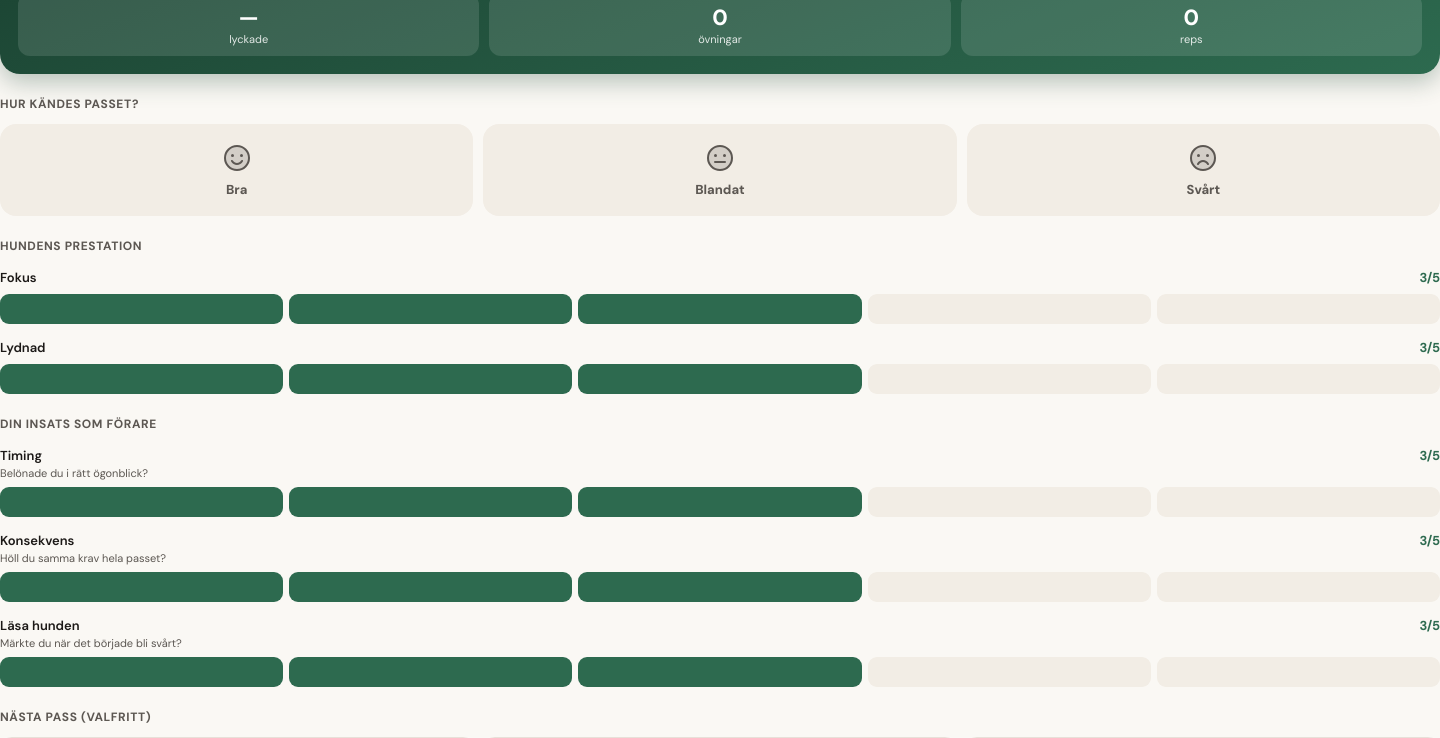
Test: SessionLogForm save status › shows an error and no saved screen when the server responds with an error
The width and height of the screenshot is (1440, 738).
Click the radio button labelled "Bra".
click(237, 170)  # box [0,124,473,216]
(page scrolled)
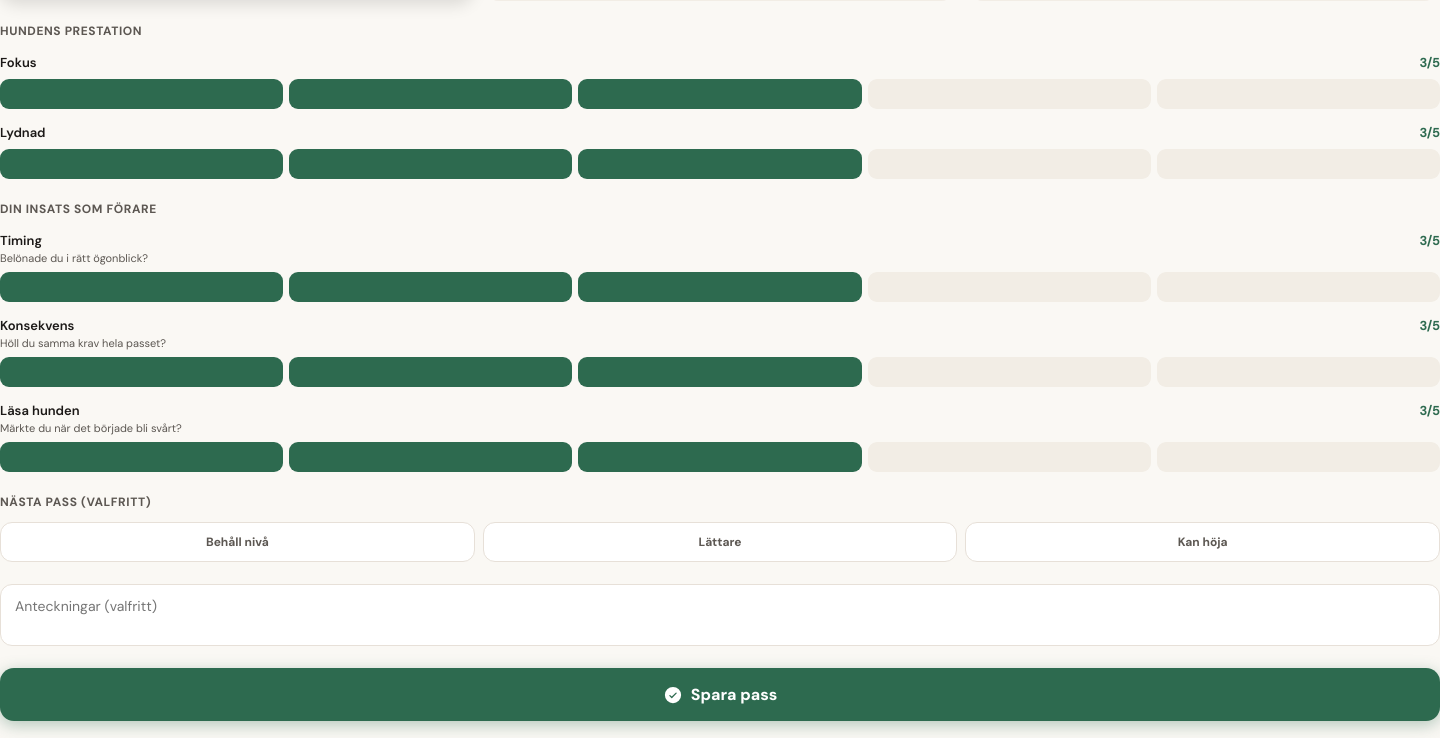
Click the button "Spara pass".
click(720, 694)  # box [0,668,1439,721]
(page scrolled)
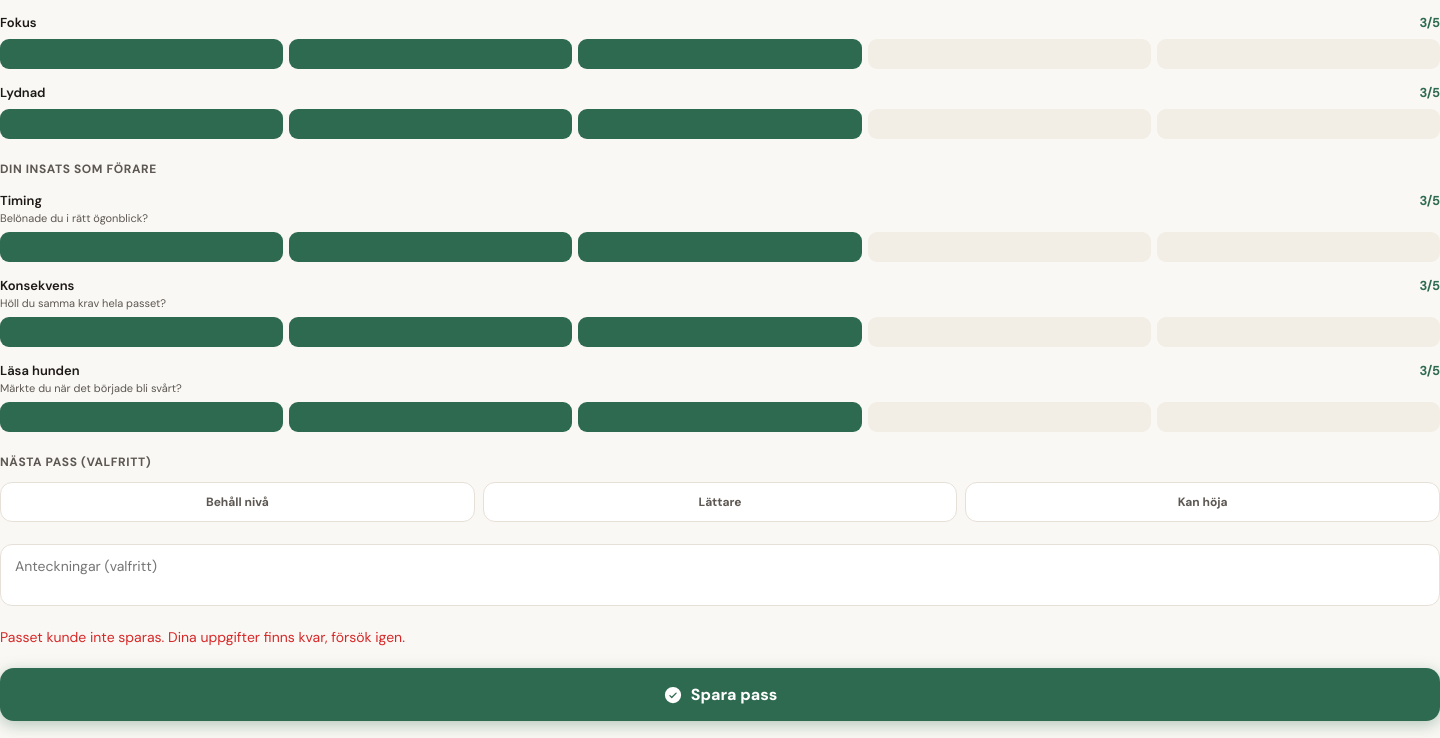
Expected: the button "Spara pass" is enabled, [0,668,1439,721]
Expected: the message shows "kunde inte sparas", [0,628,405,646]
